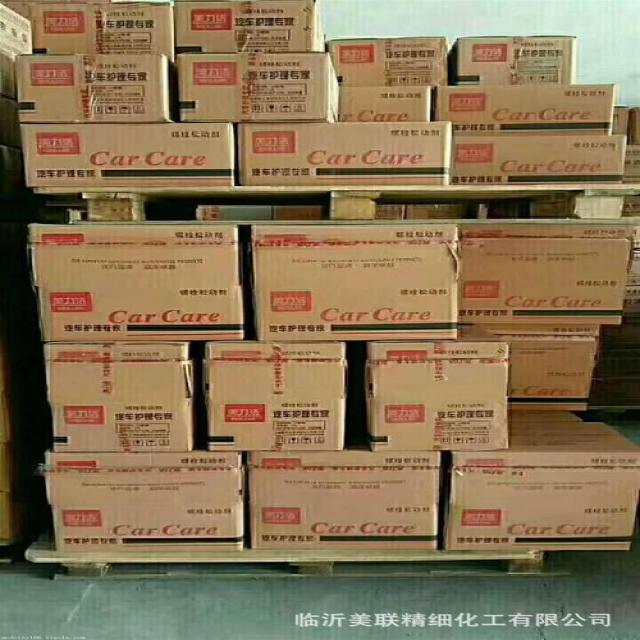Carton: (31, 219, 636, 449), (175, 0, 622, 186), (45, 453, 250, 551), (444, 453, 636, 553), (251, 451, 439, 550), (364, 341, 508, 449), (42, 346, 189, 450), (17, 123, 234, 184), (9, 56, 164, 121), (26, 0, 173, 53)
